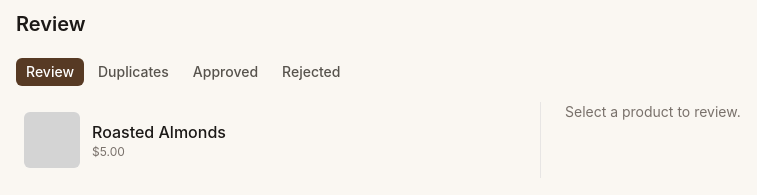
Test: ReviewPage › shows a plain empty state for a filter with no matching products
The image size is (757, 195).
Expected: the text "Roasted Almonds" is shown, [92, 122, 226, 142]
Click the tab "Approved".
click(225, 72)  # box [183, 58, 268, 86]
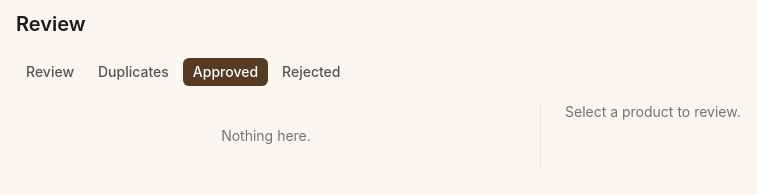
Expected: the text "Nothing here." is shown, [221, 127, 311, 144]
